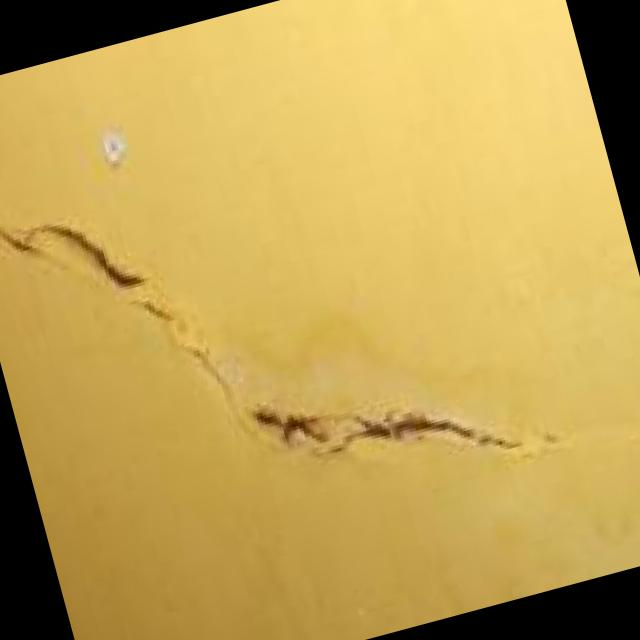crack: (0, 63, 564, 620)
